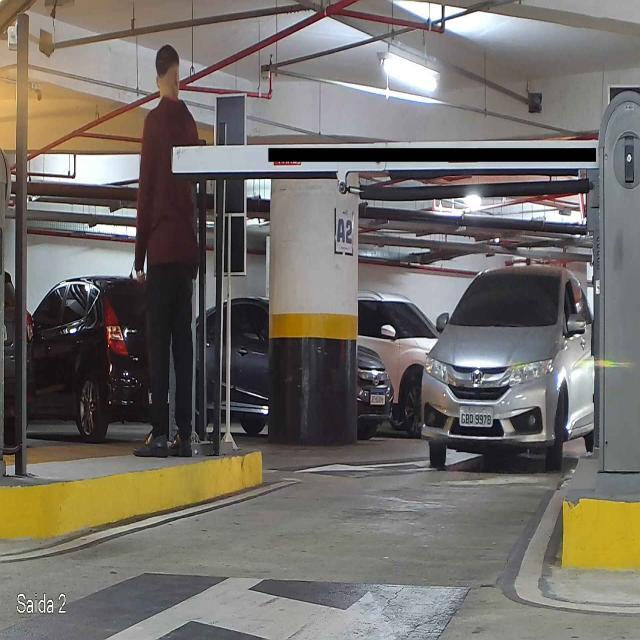old_plate: (458, 405, 494, 428)
